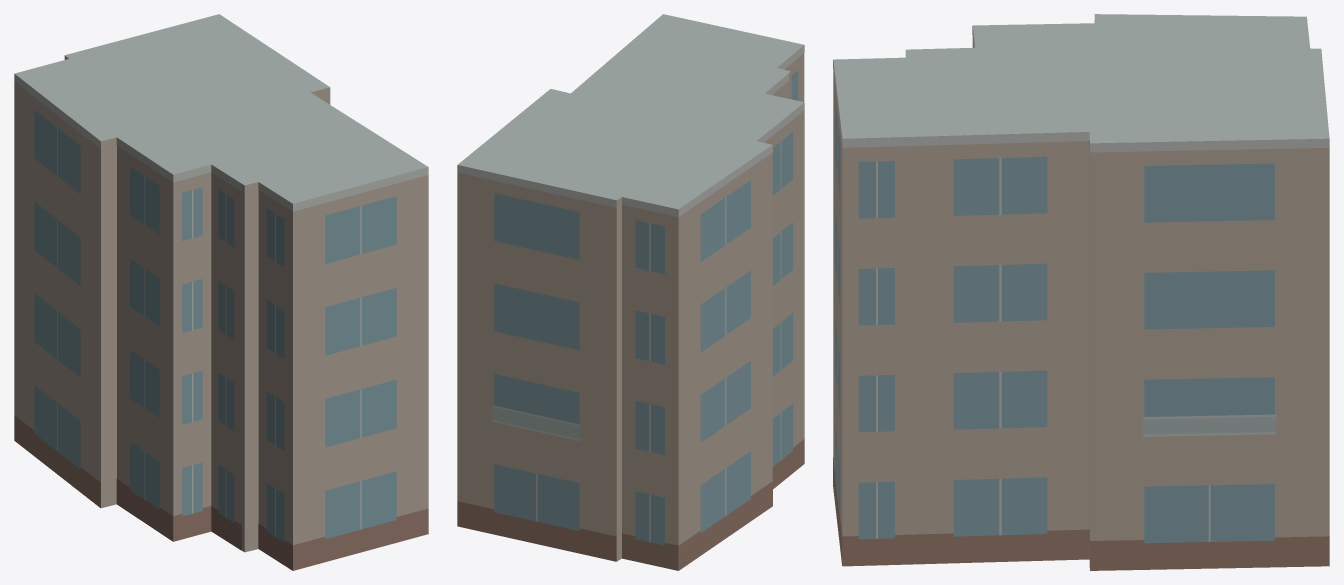
File: survey-upis-32518939.glb
3 renders of one model, left to right at view 1: azimuth 30°, elevation 25°; view 2: azimuth 150°, elevation 25°; view 3: azimuth 270°, elevation 25°, orthographic. The views are drawn at different scales.
Parts seen in each view (by area): view 1: survey-upis-32518939.tmp; view 2: survey-upis-32518939.tmp; view 3: survey-upis-32518939.tmp.
Boxes of the visible parts, bbox=[...] form: survey-upis-32518939.tmp: bbox=[14, 14, 428, 570]; survey-upis-32518939.tmp: bbox=[457, 14, 804, 570]; survey-upis-32518939.tmp: bbox=[833, 14, 1329, 570].
Size of the model in its own units: 7.44 by 11.45 by 12.06.
